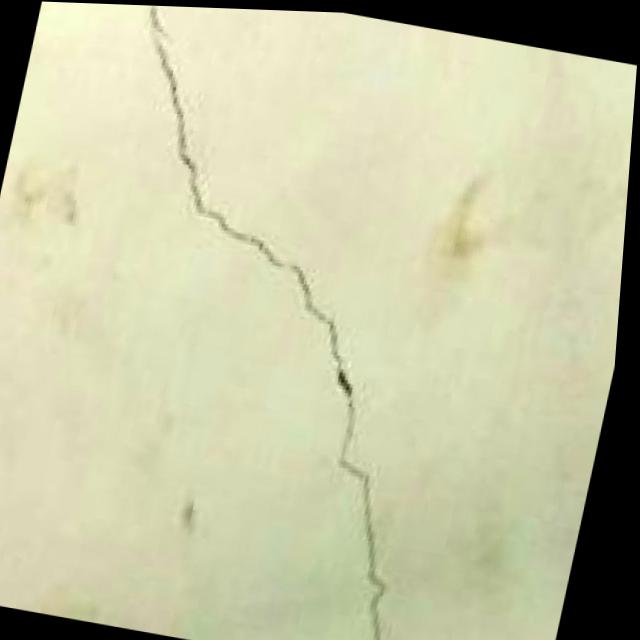Crack: (0, 1, 551, 640)
